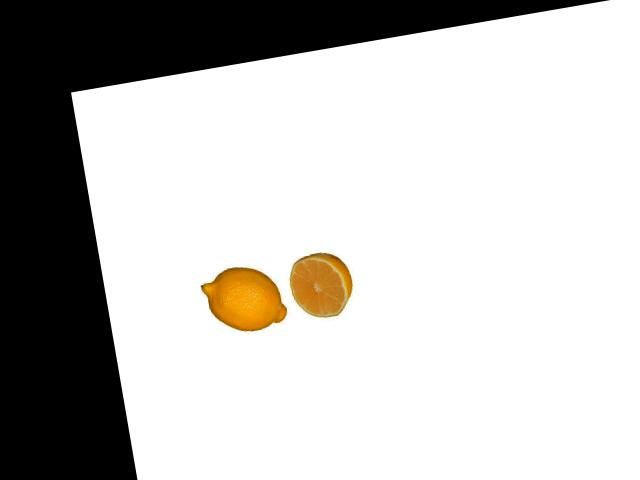lemon: (200, 259, 290, 339)
